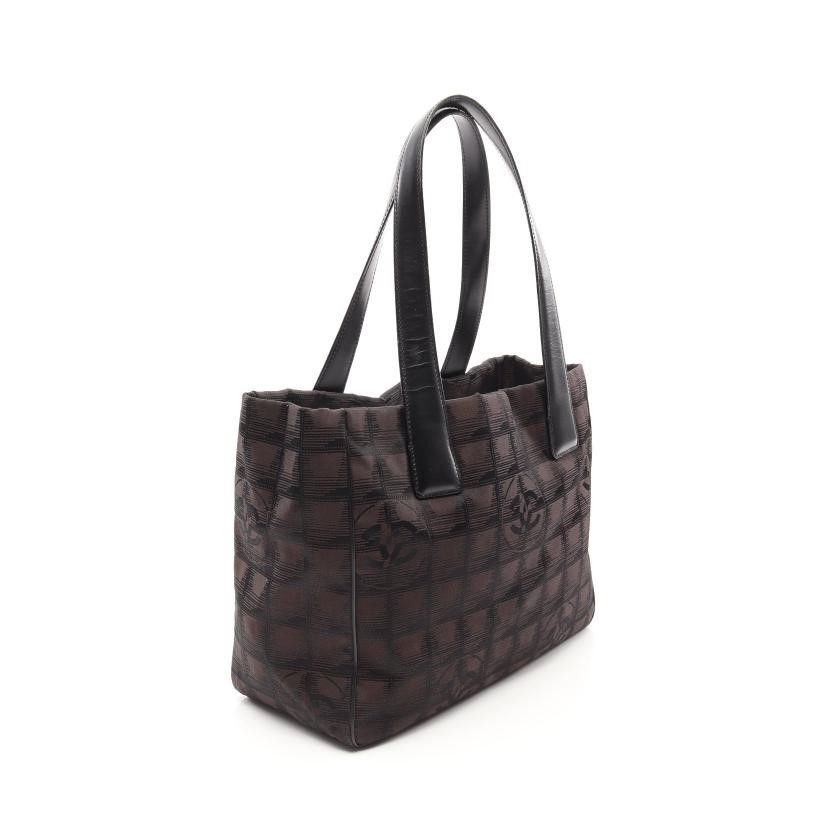channel: (165, 296, 651, 758), (486, 447, 583, 564)
